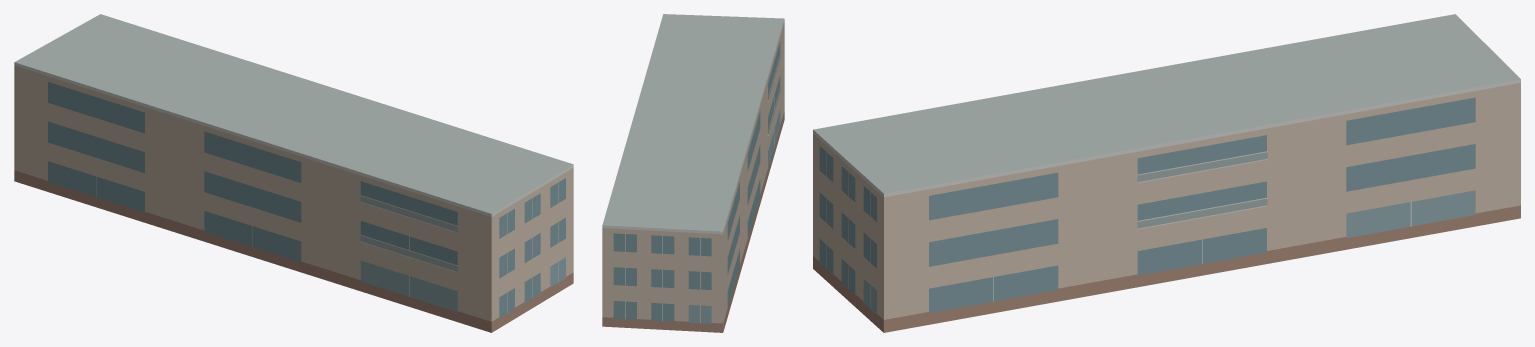
File: survey-upis-32769888.glb
3 renders of one model, left to right at view 1: azimuth 30°, elevation 25°; view 2: azimuth 150°, elevation 25°; view 3: azimuth 270°, elevation 25°, orthographic. The views are drawn at different scales.
Visible parts, largest first — view 1: survey-upis-32769888.tmp; view 2: survey-upis-32769888.tmp; view 3: survey-upis-32769888.tmp.
Boxes of the visible parts, x1=… form: survey-upis-32769888.tmp: x1=14, y1=14, x2=573, y2=332; survey-upis-32769888.tmp: x1=602, y1=14, x2=784, y2=332; survey-upis-32769888.tmp: x1=813, y1=14, x2=1520, y2=332.
Size of the model in its own units: 25.33 by 9.15 by 42.16.
